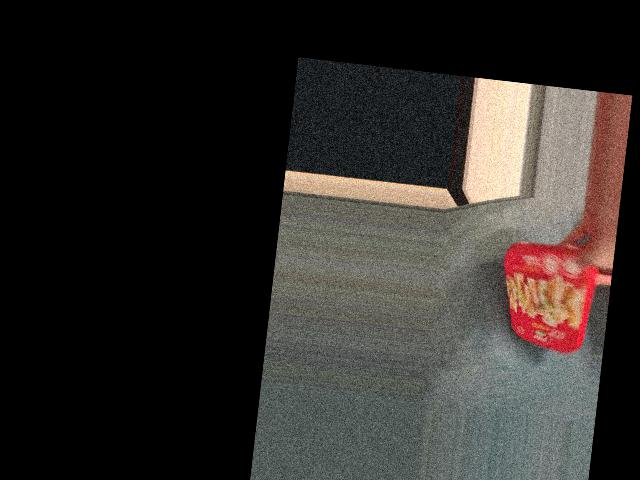cheese: (499, 234, 599, 353)
